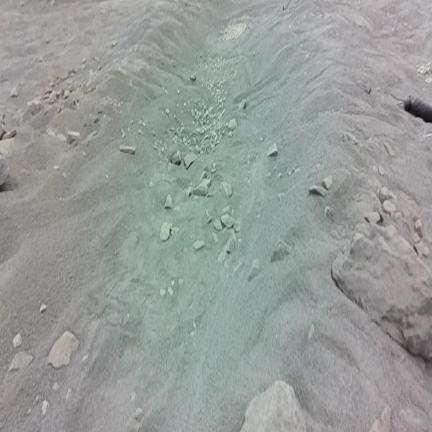Rock: (332, 224, 431, 358), (241, 381, 306, 431), (48, 331, 79, 368), (370, 407, 391, 431), (9, 352, 33, 371), (271, 239, 291, 261), (218, 236, 234, 262), (193, 179, 210, 196), (248, 259, 261, 281), (27, 98, 43, 115), (0, 156, 9, 185), (379, 187, 394, 203), (0, 138, 14, 155), (160, 222, 172, 241), (414, 241, 428, 257), (309, 185, 327, 197), (82, 131, 97, 144), (47, 92, 59, 108), (221, 214, 234, 228), (67, 131, 80, 145), (383, 200, 396, 214), (414, 218, 423, 238), (184, 154, 196, 169), (365, 212, 381, 223), (344, 132, 358, 144), (221, 182, 232, 197), (170, 151, 181, 165), (325, 206, 334, 222), (322, 176, 333, 189), (384, 142, 394, 156), (267, 143, 277, 156), (120, 146, 136, 154), (2, 130, 16, 139), (13, 334, 22, 347), (135, 408, 143, 421), (228, 119, 237, 130), (193, 241, 204, 250), (42, 401, 49, 415), (165, 194, 172, 208), (214, 219, 222, 230), (233, 221, 241, 232), (238, 99, 246, 110), (47, 128, 56, 137), (57, 133, 66, 142), (66, 388, 72, 400), (0, 127, 6, 139), (10, 88, 17, 97), (379, 166, 384, 176), (131, 392, 136, 402), (40, 304, 46, 312), (160, 289, 166, 296), (190, 74, 196, 81), (53, 382, 58, 390), (112, 41, 116, 47)
